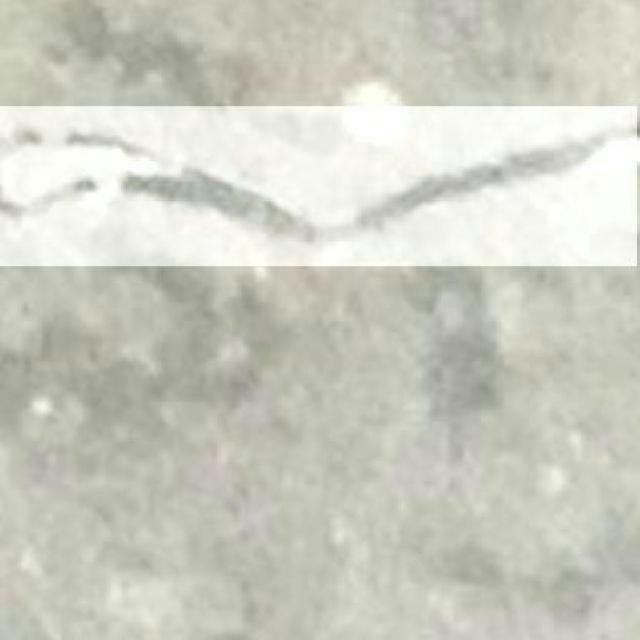SurfaceCrack: (0, 90, 638, 290)
